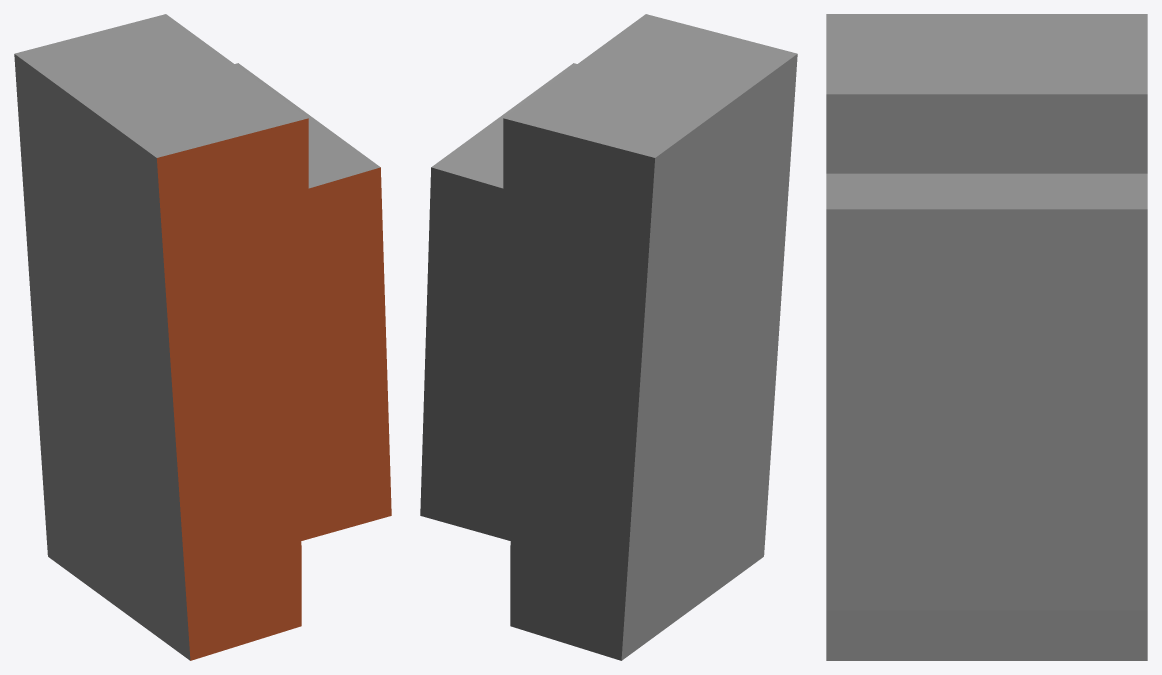
File: construction_1218_assumed_A_Casa_h6m.obj
The picture shows the model from 3 angles, left to right: view 1: azimuth 30°, elevation 25°; view 2: azimuth 150°, elevation 25°; view 3: azimuth 270°, elevation 25°; orthographic projection. The views are drawn at different scales.
Parts seen in each view (by area): view 1: construction_1218_assumed_A_Casa; view 2: construction_1218_assumed_A_Casa; view 3: construction_1218_assumed_A_Casa.
Part boxes in pixels (<box>): construction_1218_assumed_A_Casa: <box>14,14,391,660</box>; construction_1218_assumed_A_Casa: <box>420,14,797,660</box>; construction_1218_assumed_A_Casa: <box>826,14,1147,660</box>.
Bounding box in the file's own units: 5.71 × 11.93 × 6.
